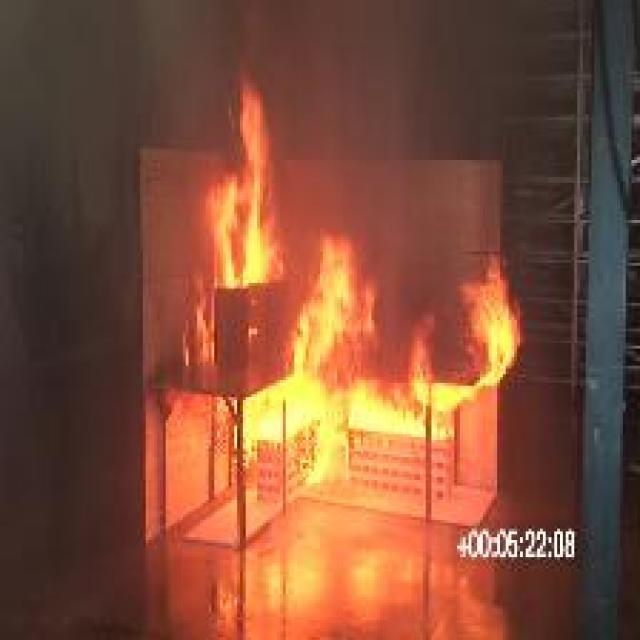Fire: (186, 232, 523, 486), (210, 75, 282, 288)
